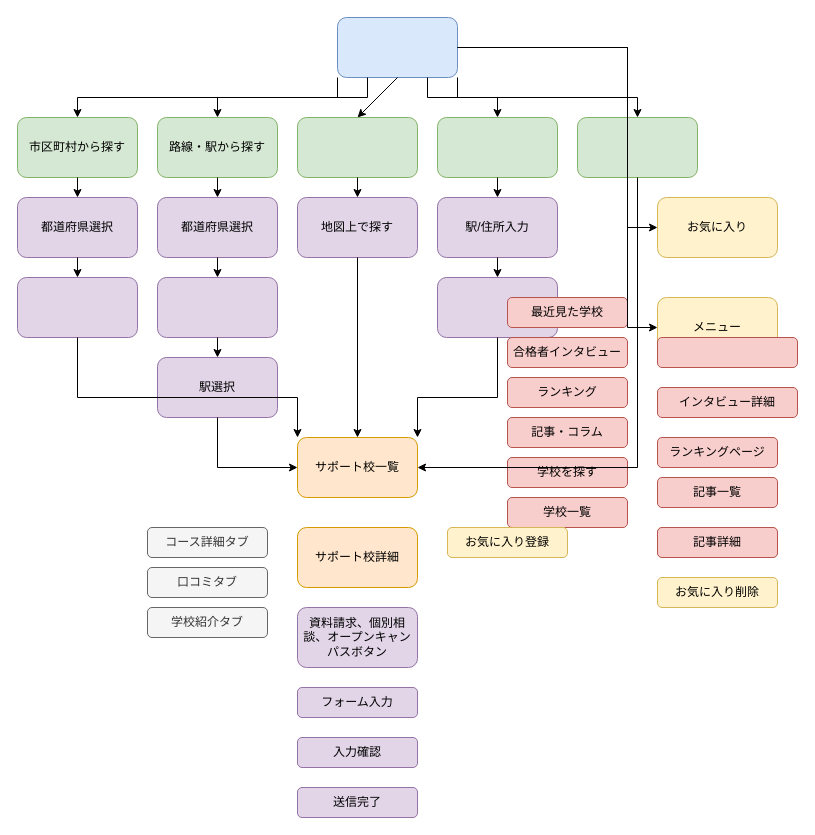
Some shapes in this 815 by 835 pixel diagram are drawn without their labels. Here are the shapes that lost their labels. From the top down, the box of each, then its label:
(336, 16, 458, 78): トップページ
(296, 116, 418, 178): 地図から探す
(436, 116, 558, 178): 通学時間から探す
(576, 116, 698, 178): 志望校名で検索
(16, 276, 138, 338): 市区町村選択
(156, 276, 278, 338): 路線選択
(436, 276, 558, 338): 通学時間設定
(656, 336, 798, 368): 合格者インタビュー一覧
